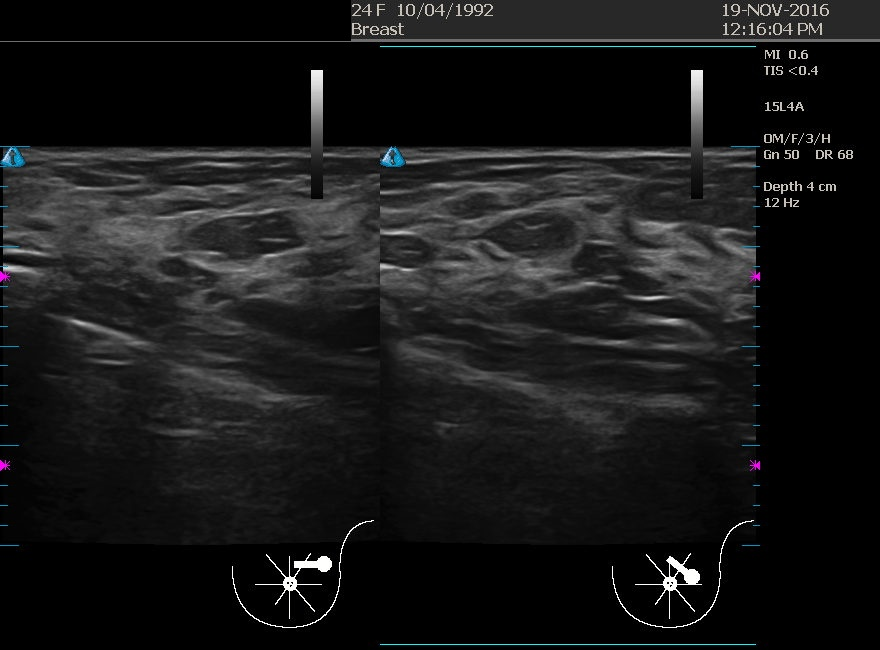Benign: (145, 201, 345, 401), (433, 170, 633, 370)
